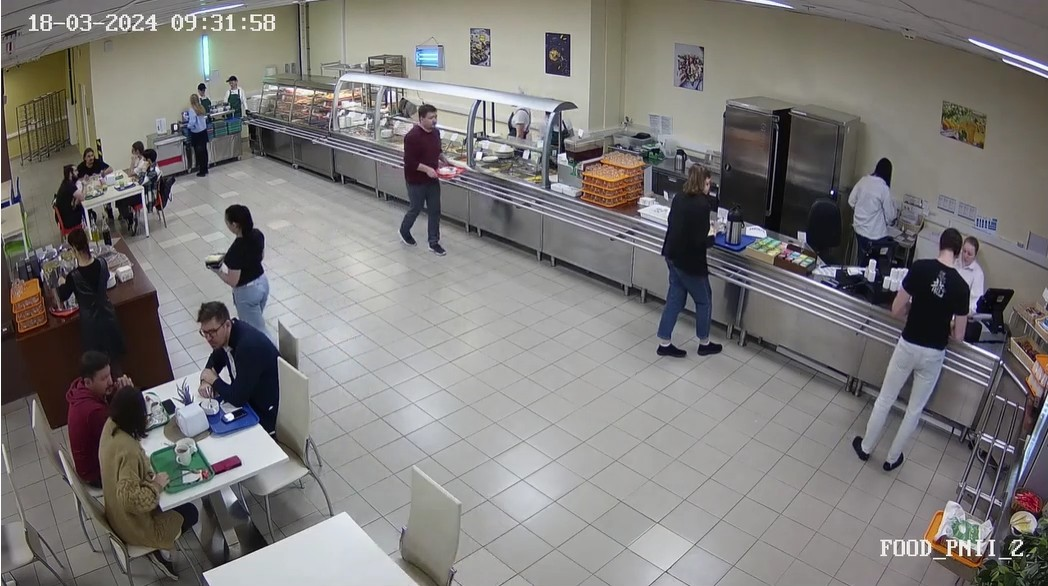Na_Kasse: (781, 219, 991, 465)
Ne_v_Ocheredi: (59, 233, 131, 350), (207, 202, 280, 301)
Personal: (847, 147, 902, 272), (507, 76, 540, 142), (957, 232, 989, 290), (222, 70, 258, 121), (195, 75, 215, 96)
Vybiraet: (654, 152, 731, 376), (389, 103, 454, 259), (183, 94, 210, 184)
Za_Stolom: (24, 345, 135, 484), (194, 301, 292, 434), (99, 382, 174, 549), (52, 160, 90, 232), (74, 141, 119, 180), (140, 148, 167, 207), (120, 134, 147, 183)
